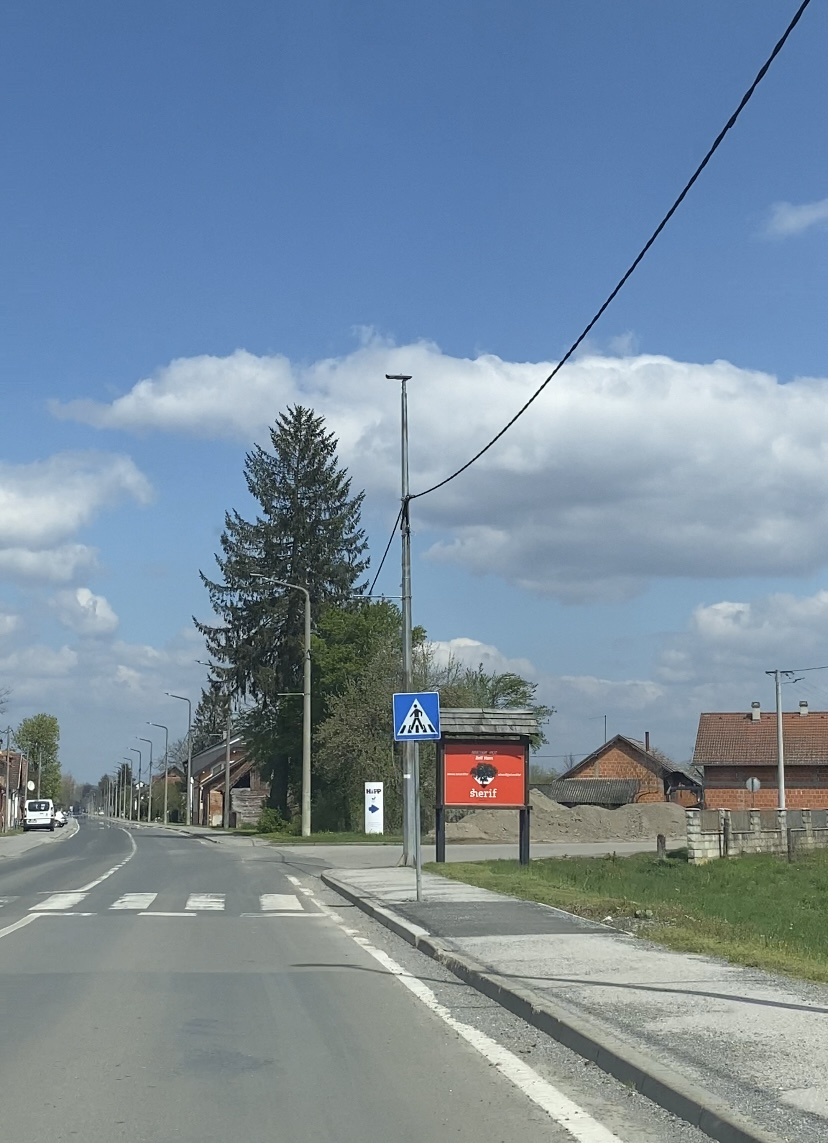Pješački prijelaz: (392, 692, 441, 740)
